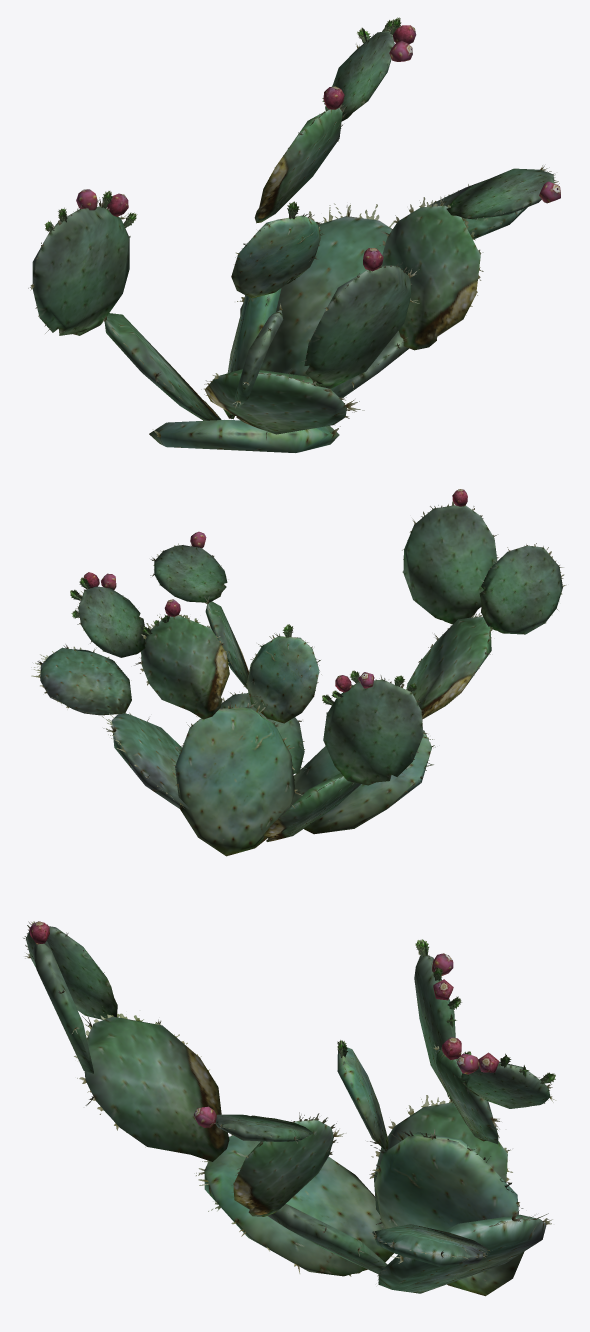
File: DesertPlant02B.FBX
3 views of the same model, one above another, from view 1: azimuth 30°, elevation 25°; view 2: azimuth 150°, elevation 25°; view 3: azimuth 270°, elevation 25° (orthographic). The views are drawn at different scales.
Parts seen in each view (by area): view 1: DesertPlant02B; view 2: DesertPlant02B; view 3: DesertPlant02B.
Boxes of the visible parts, bbox=[...] form: DesertPlant02B: bbox=[28, 17, 560, 452]; DesertPlant02B: bbox=[31, 489, 566, 856]; DesertPlant02B: bbox=[23, 921, 556, 1296].
Bounding box in the file's own units: 10.88 × 7.19 × 9.92.
